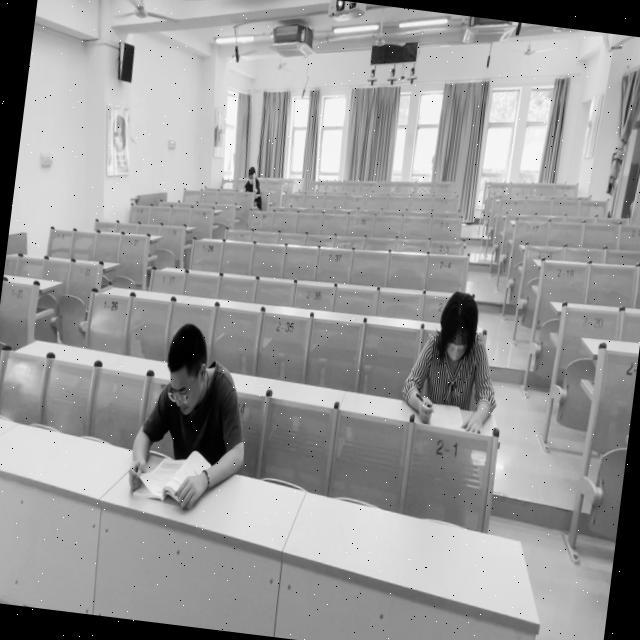study: (126, 326, 255, 513), (399, 286, 508, 421), (242, 166, 260, 195)
